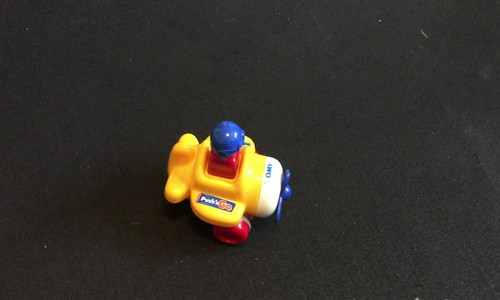toy: (161, 120, 301, 253)
